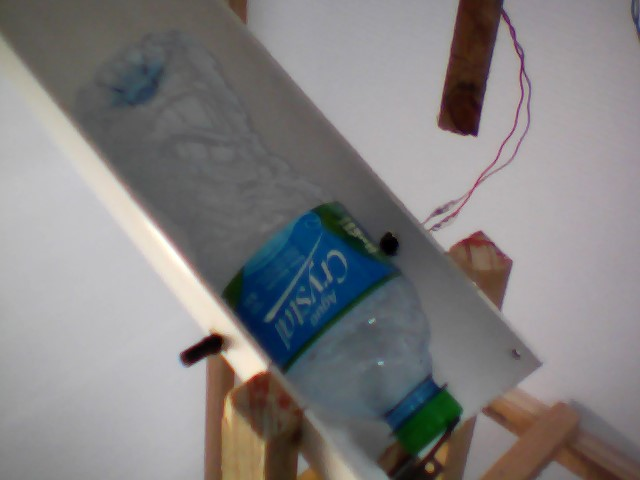plastico: (60, 26, 474, 480)
